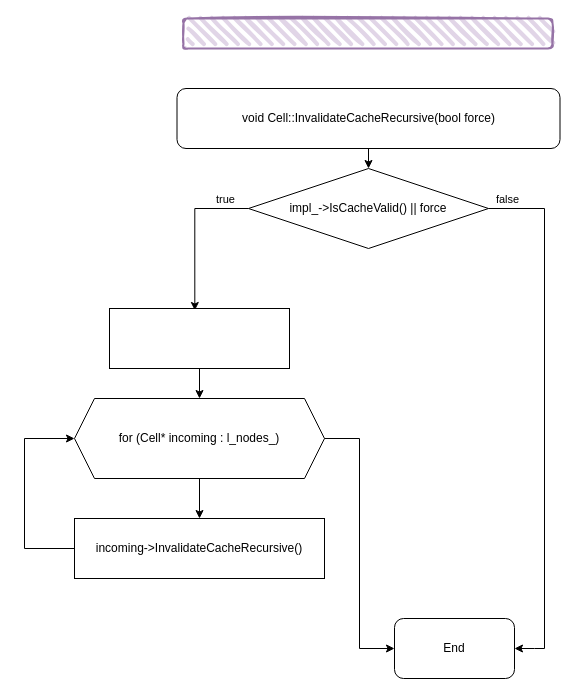
The diagram is 578 pixels wide and 696 high, and some of its shapes have lost their labels. The centre of each missing label's shape, as x and y in pixels:
CACHE INVALIDATION: point (367, 33)
impl_->InvalidateCache(): point (199, 338)
